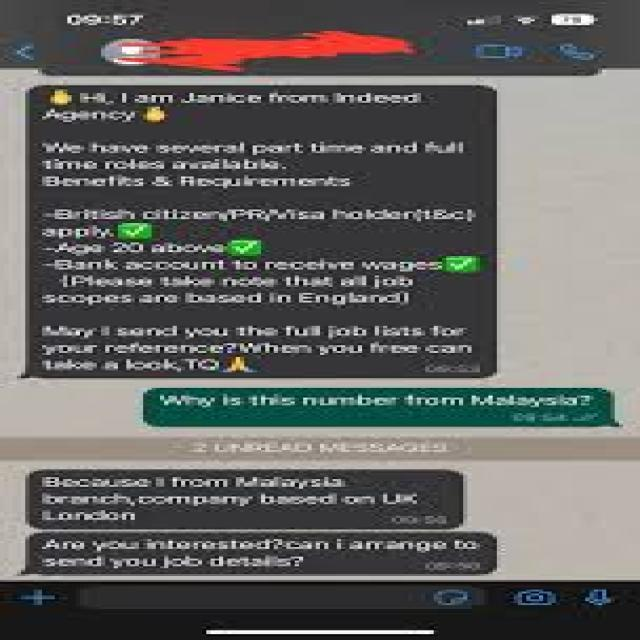scam: (21, 86, 497, 377), (30, 468, 470, 526), (27, 533, 500, 579)
